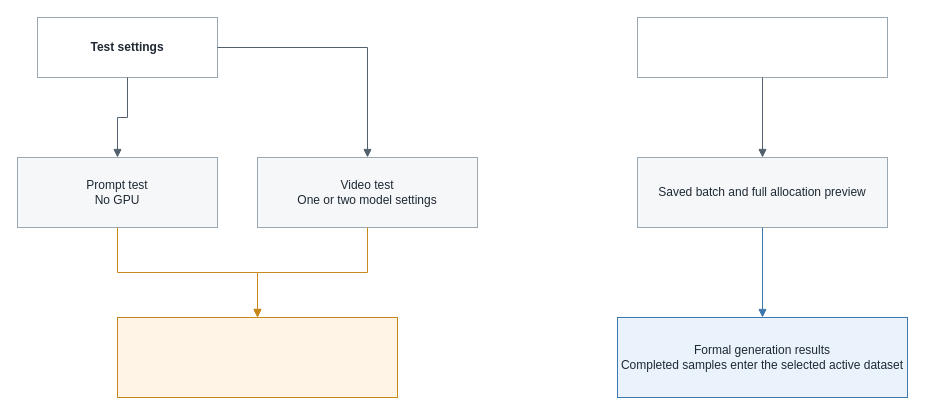
The diagram is 925 pixels wide and 415 high, and some of its shapes have lost their labels. The centre of each missing label's shape, as x and y in pixels:
"Formal generation settings" goes at point (762, 47).
"Test results only Never enter dataset, review, or archive" goes at point (257, 357).
